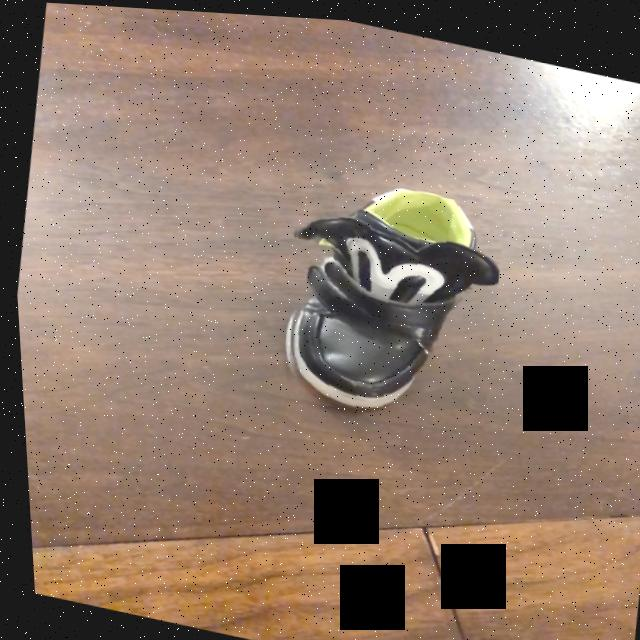shoe: (285, 185, 496, 408)
